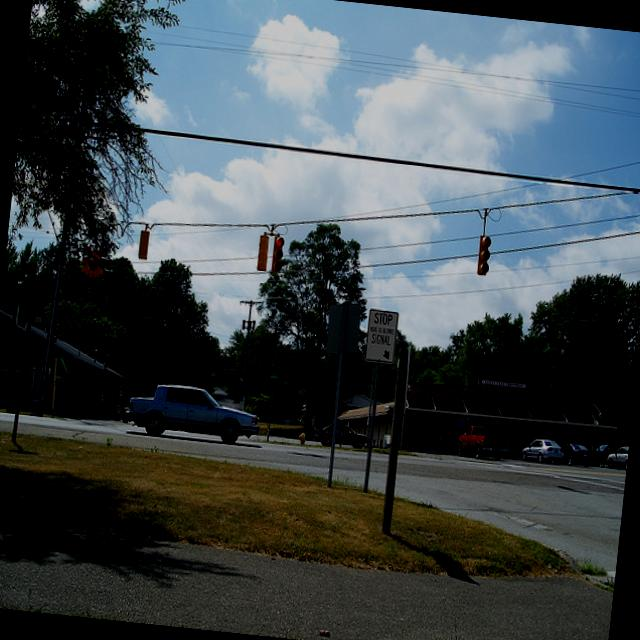Vehicle: (122, 378, 264, 446), (456, 422, 510, 461), (312, 421, 368, 450), (520, 436, 565, 466), (560, 438, 596, 468), (590, 441, 622, 466), (592, 442, 620, 467), (606, 445, 628, 469)
